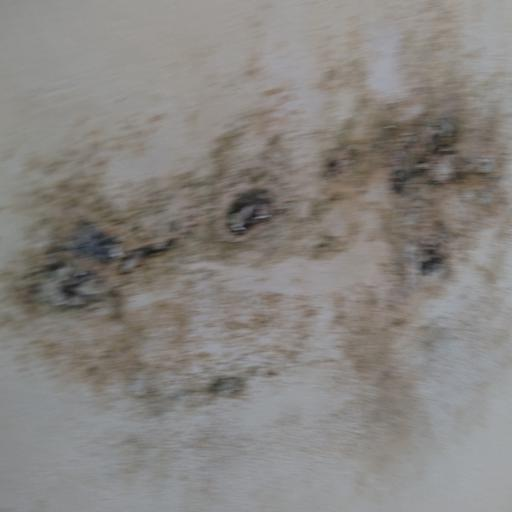algae: (33, 87, 512, 412)
